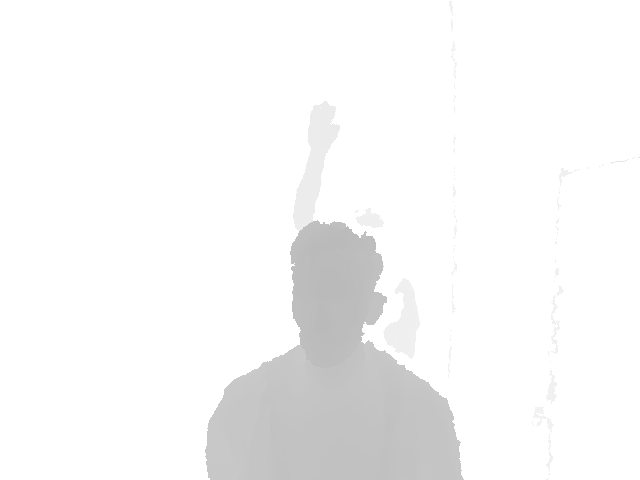hand: (307, 102, 340, 160)
head: (290, 221, 376, 359)
person: (205, 221, 464, 480), (291, 102, 422, 363)
